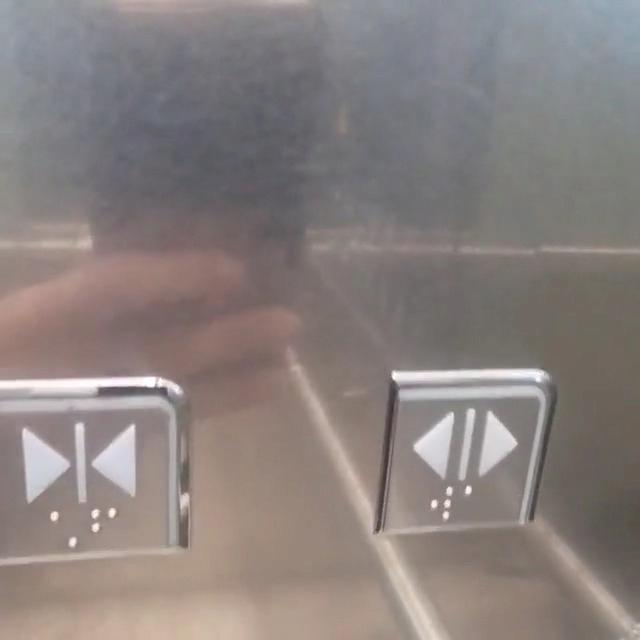button: (368, 373, 558, 533), (2, 385, 178, 549)
